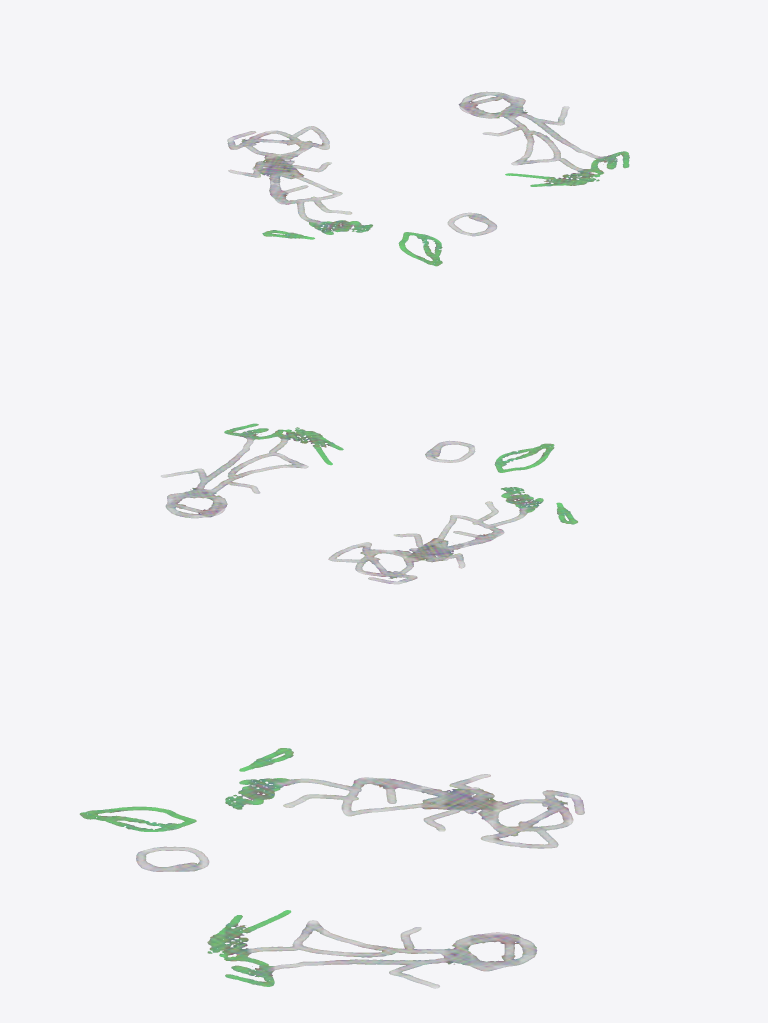
Rendered from DecaleJ.FBX.
3 renders of one model, top to bottom at view 1: azimuth 30°, elevation 25°; view 2: azimuth 150°, elevation 25°; view 3: azimuth 270°, elevation 25°, orthographic. The views are drawn at different scales.
Visible parts, largest first — view 1: Object009; view 2: Object009; view 3: Object009.
Part boxes in pixels (x1=…): Object009: x1=227, y1=91, x2=629, y2=266; Object009: x1=160, y1=423, x2=577, y2=584; Object009: x1=79, y1=748, x2=584, y2=988.
Bounding box in the file's own units: 1.8 × 1.36e-07 × 1.8.
